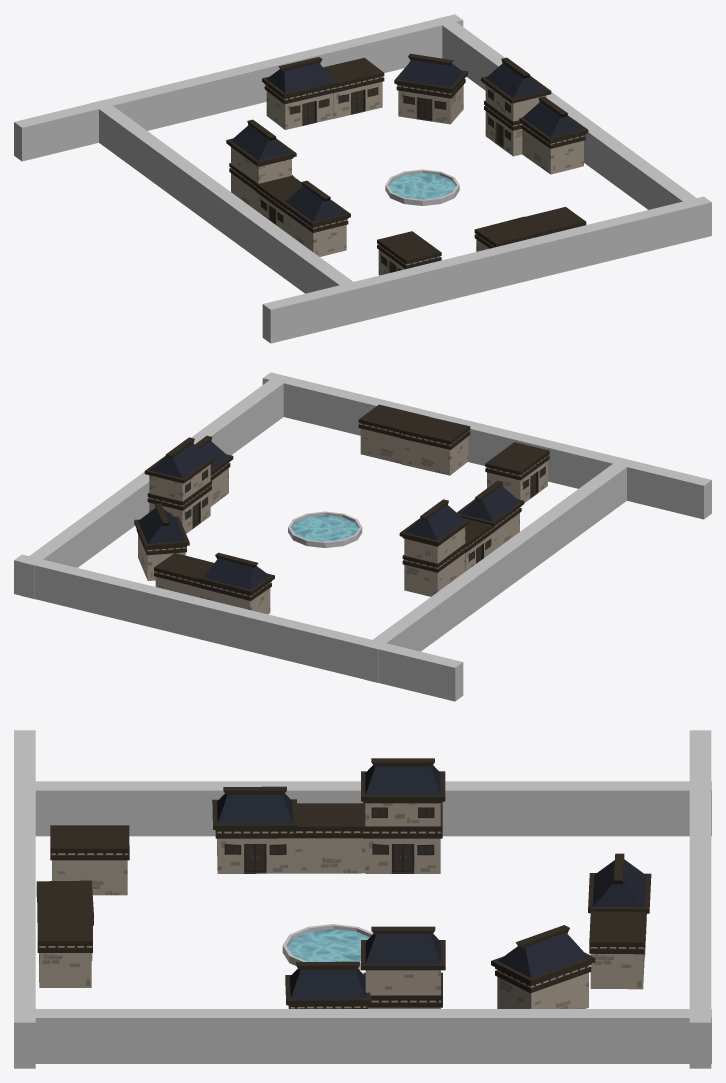
Rendered from Med_Town.fbx.
The picture shows the model from 3 angles, top to bottom: view 1: azimuth 30°, elevation 25°; view 2: azimuth 150°, elevation 25°; view 3: azimuth 270°, elevation 25°; orthographic projection. The views are drawn at different scales.
Visible parts, largest first — view 1: polySurface53; view 2: polySurface53; view 3: polySurface53.
Part boxes in pixels (x1,y1,x2,y2): polySurface53: [14, 14, 711, 343]; polySurface53: [14, 372, 711, 701]; polySurface53: [14, 730, 711, 1068].
Bounding box in the file's own units: 30.27 × 5.06 × 30.53.
